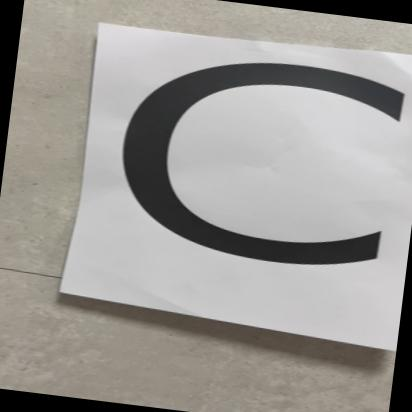seat: (62, 4, 412, 364)
